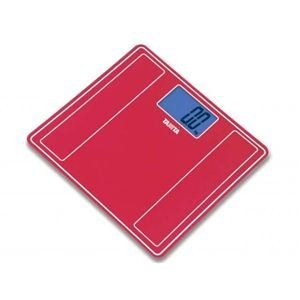LCD: (158, 85, 219, 139)
